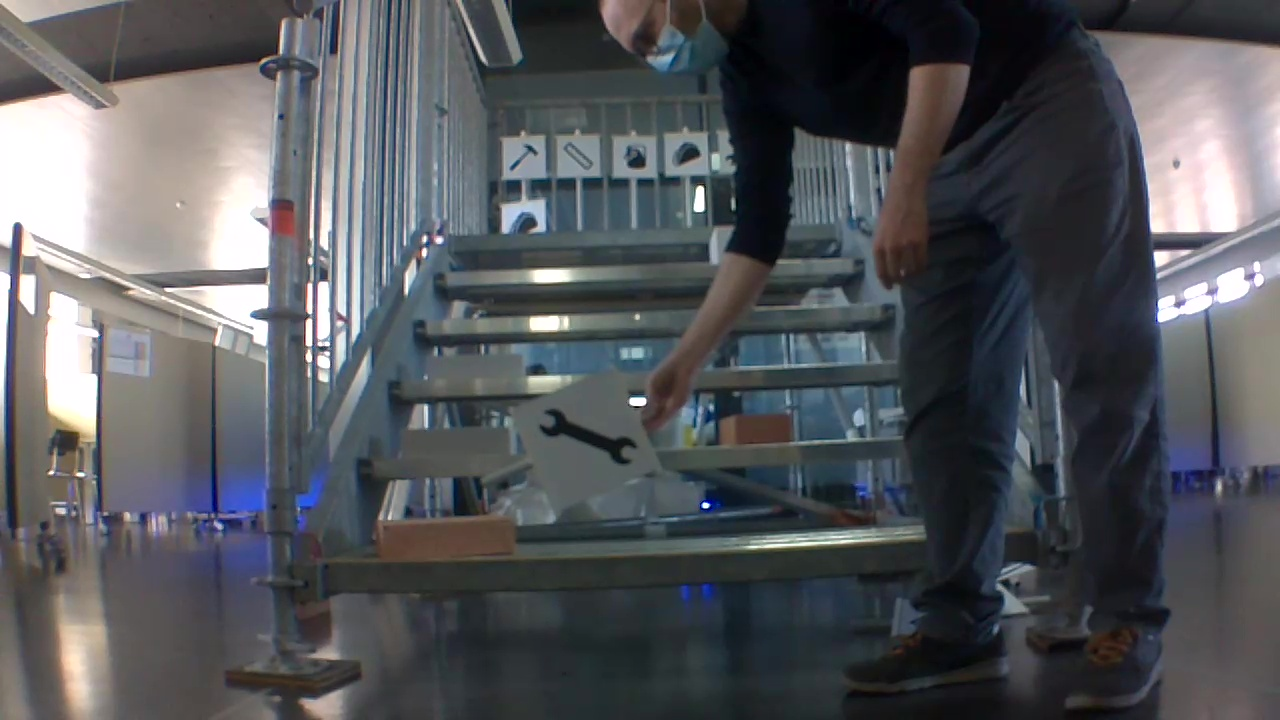brick: (377, 513, 511, 557), (400, 424, 512, 455), (720, 411, 792, 444), (428, 354, 526, 378)
bucket: (619, 142, 650, 169)
hammer: (504, 142, 540, 175)
ruler: (557, 138, 594, 171)
taco: (672, 139, 703, 172), (505, 207, 537, 235)
wrench: (536, 405, 638, 474)
